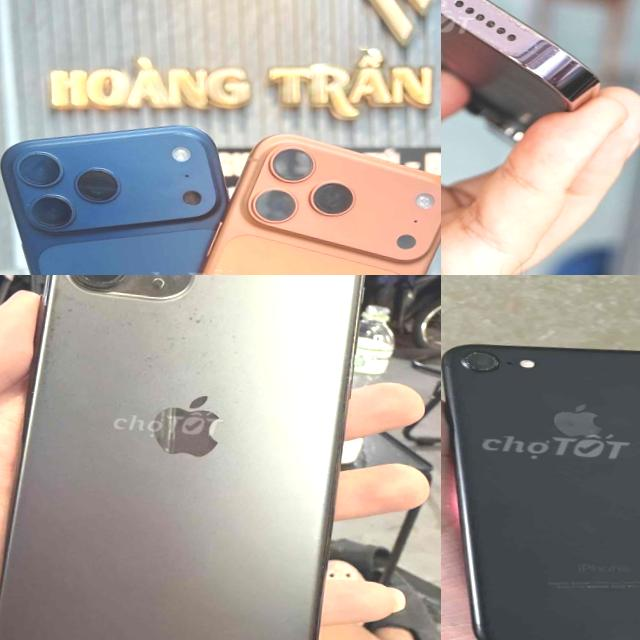gen_11: (0, 275, 363, 640)
gen_14: (441, 0, 626, 128)
gen_17: (0, 126, 226, 275), (32, 195, 72, 227)
gen_7_8: (441, 330, 640, 640)
scratch: (34, 275, 309, 418), (446, 0, 547, 37), (462, 346, 504, 371)
